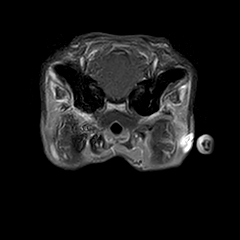Brain: (68, 25, 167, 123)
